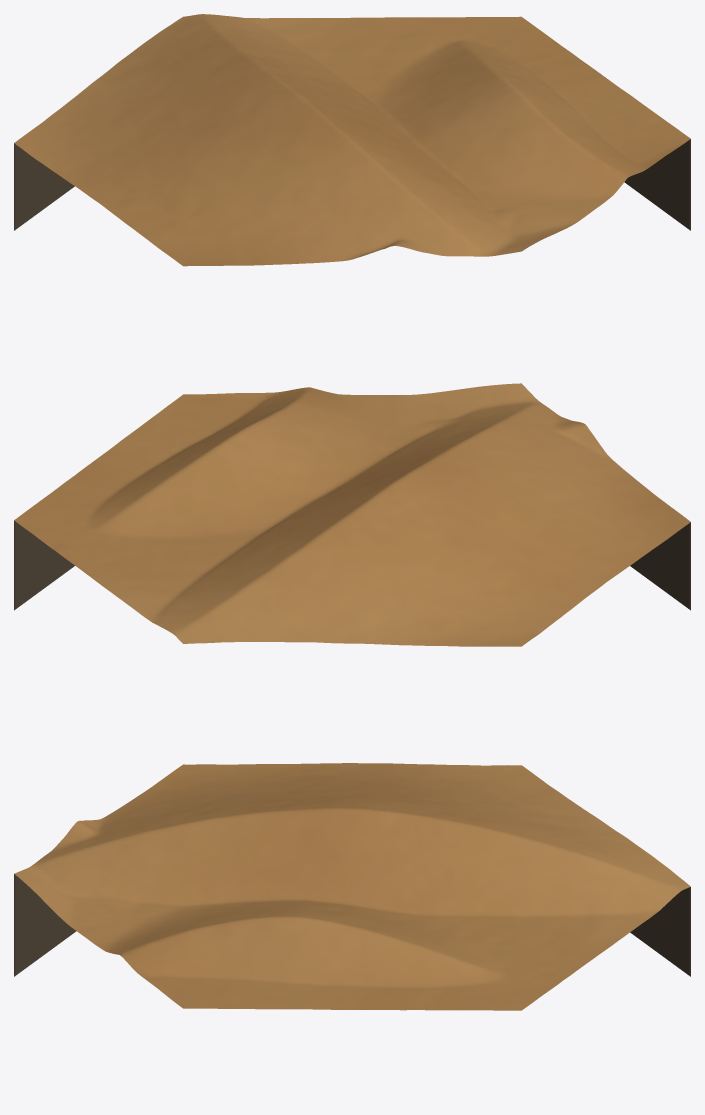
3 views of the same model, one above another, from view 1: azimuth 30°, elevation 25°; view 2: azimuth 150°, elevation 25°; view 3: azimuth 270°, elevation 25° (orthographic).
Parts seen in each view (by area): view 1: terrain, hex_side_cut; view 2: terrain, hex_side_cut; view 3: terrain, hex_side_cut.
Boxes of the visible parts, <box> form: terrain: <box>14,14,690,266</box>; hex_side_cut: <box>14,139,690,230</box>; terrain: <box>14,383,690,646</box>; hex_side_cut: <box>14,520,690,610</box>; terrain: <box>14,763,690,1010</box>; hex_side_cut: <box>14,874,690,976</box>.
Bounding box in the file's own units: 4330 × 1174 × 5000.
